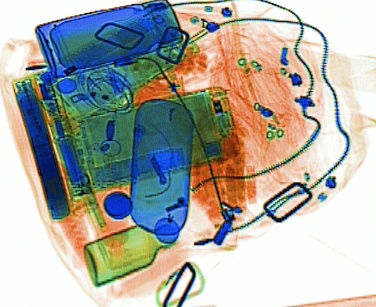powerbank: (9, 70, 73, 224)
